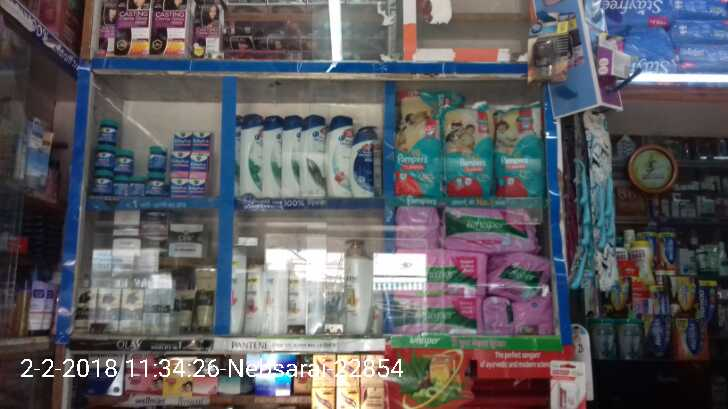vicks: (94, 117, 212, 197)
